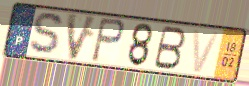8: (126, 22, 154, 68)
B: (151, 24, 188, 71)
P: (89, 16, 126, 65)
S: (27, 11, 66, 58)
V: (66, 11, 100, 63), (191, 28, 222, 75)
